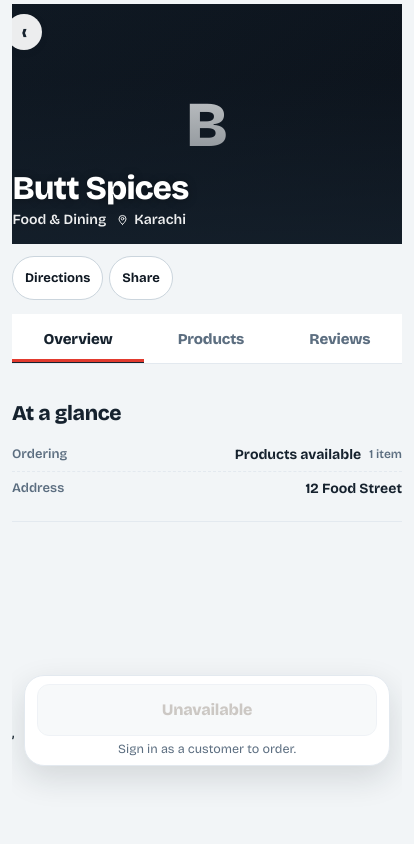
it: add to cart from business detail › does not render add controls when canOrder is false (owners / signed-out)
Click the tab "Products" at (211, 340), box top-left (146, 316), bottom-right (276, 364)
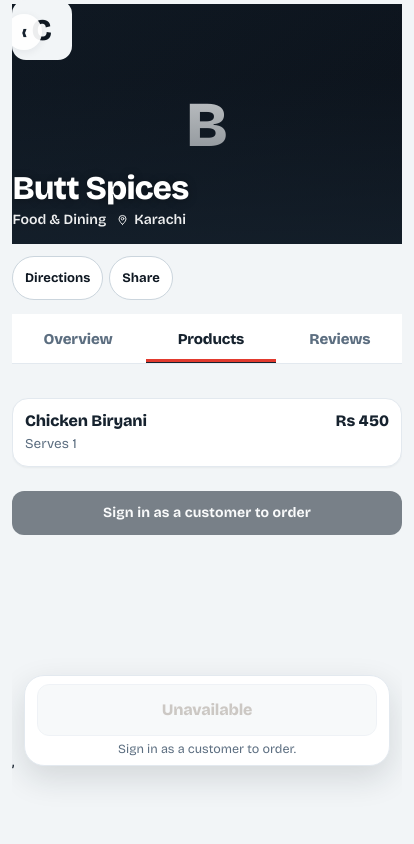
Now the text "Chicken Biryani" is shown, box top-left (25, 410), bottom-right (147, 430)
Now the button "Sign in as a customer to order" is shown, box top-left (12, 491), bottom-right (402, 535)
